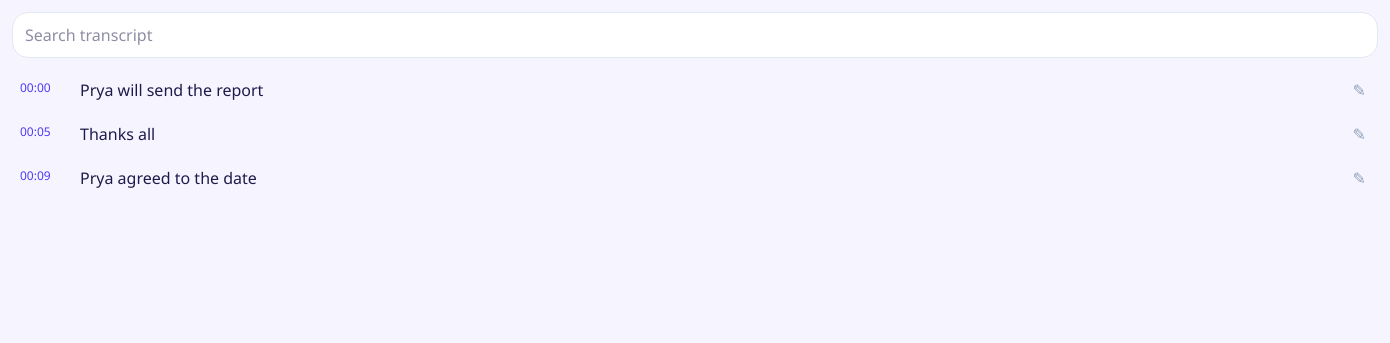
Test: editing a line › saves the new text, shows an "edited" marker, and keeps the original available
Click the 1st button "✎".
click(1359, 90)  # box [1341,70,1378,110]
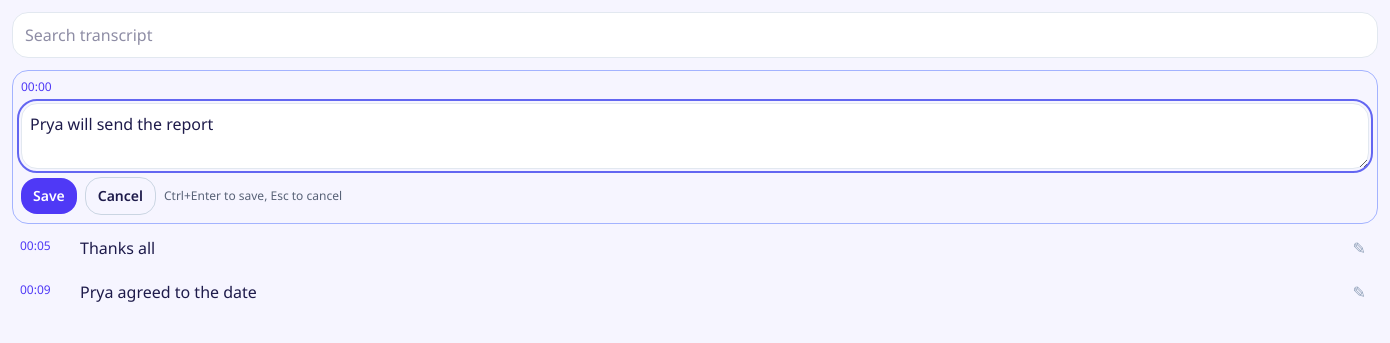
Replace the text in the text box named "Edit line" with "Priya will send the report" at (695, 136), box [21,103,1369,169]
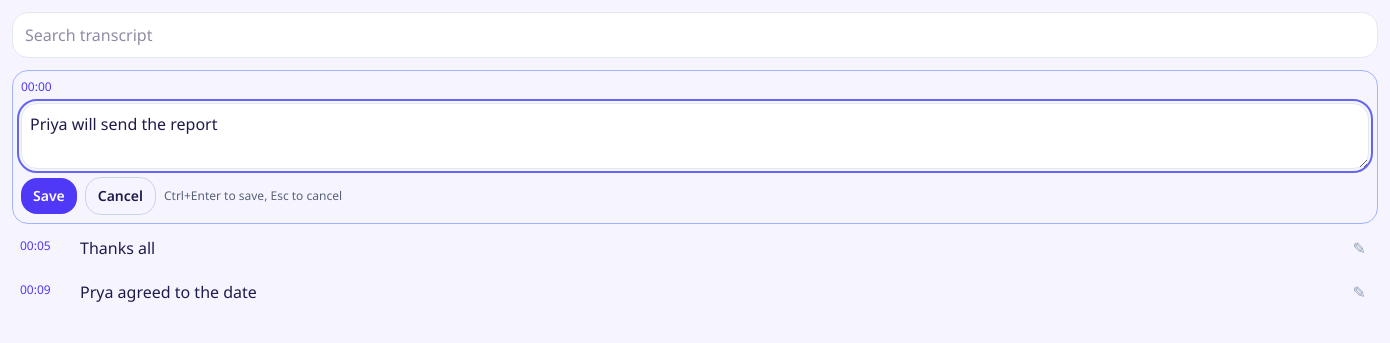
Click the button "Save".
click(49, 196)  # box [21,178,77,214]
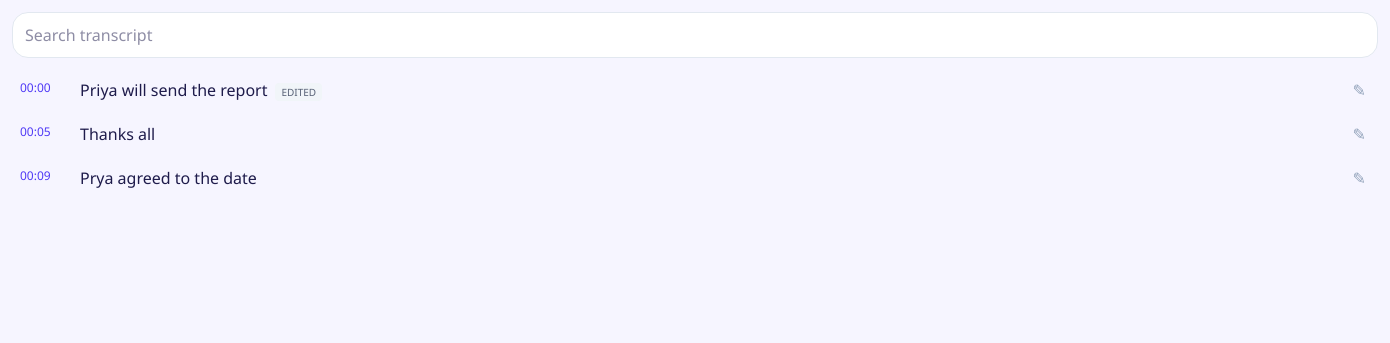
Expected: the text "Priya will send the report" is shown, [80,79,268,101]
Expected: the text "edited" is shown, [276,83,322,101]
Click the 1st button "✎".
click(1359, 90)  # box [1341,70,1378,110]
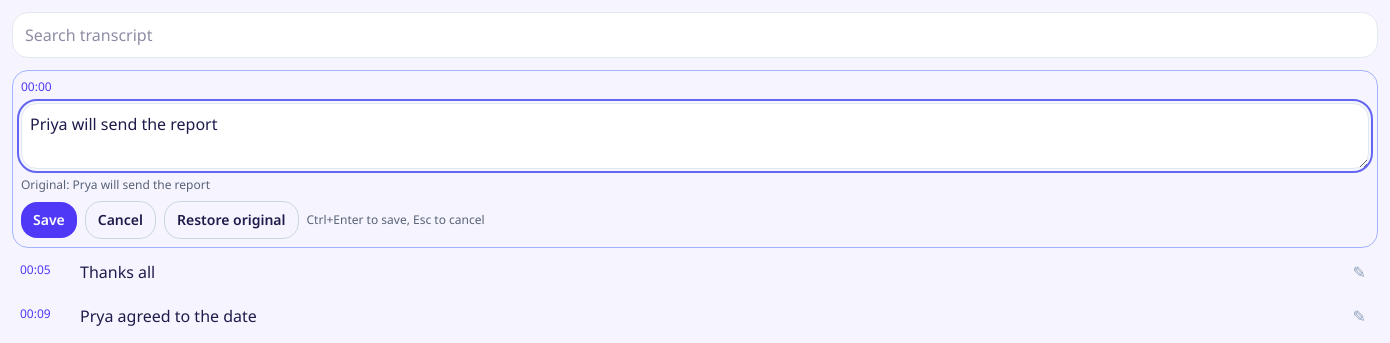
Expected: the text "Original: Prya will send the report" is shown, [21,176,210,193]
